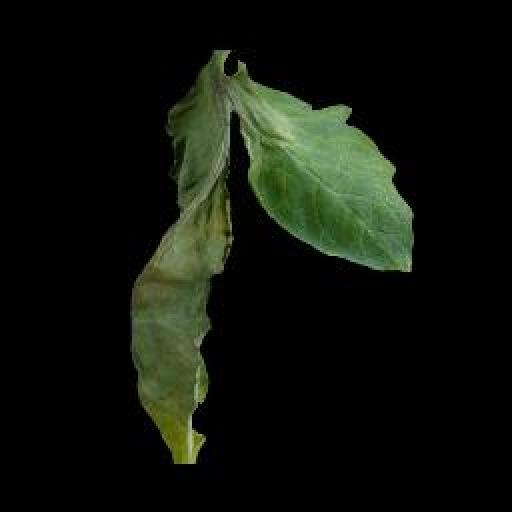Late Blight: (128, 66, 236, 466)
